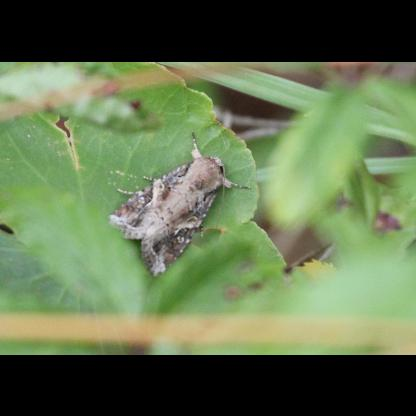Fall Armyworm Moth: (106, 128, 254, 280)
